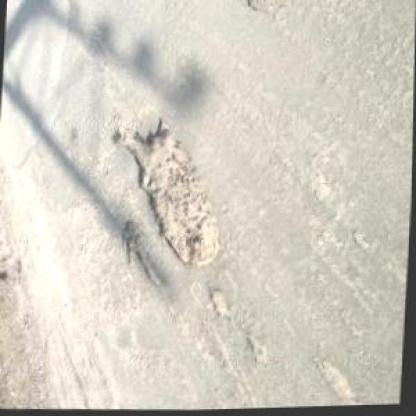pothole: (103, 114, 230, 270), (118, 216, 169, 288), (207, 283, 233, 322), (244, 0, 297, 17)
